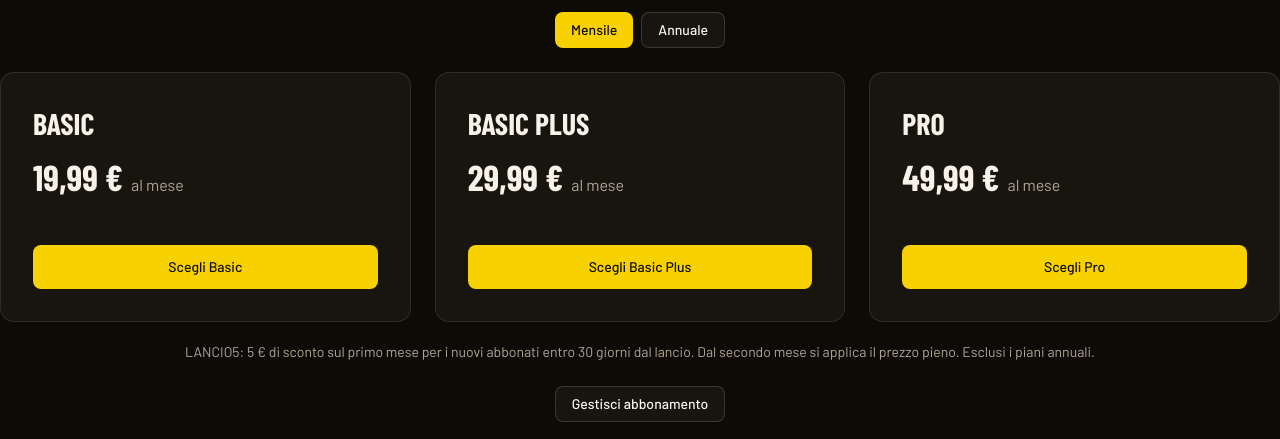
Test: offers three monthly and three annual plans with exact checkout links and upfront totals
The width and height of the screenshot is (1280, 439).
Check: the text "LANCIO5" is shown, box top-left (185, 343), bottom-right (1095, 360)
Click the button "Annuale".
click(683, 30)  # box top-left (641, 12), bottom-right (725, 48)
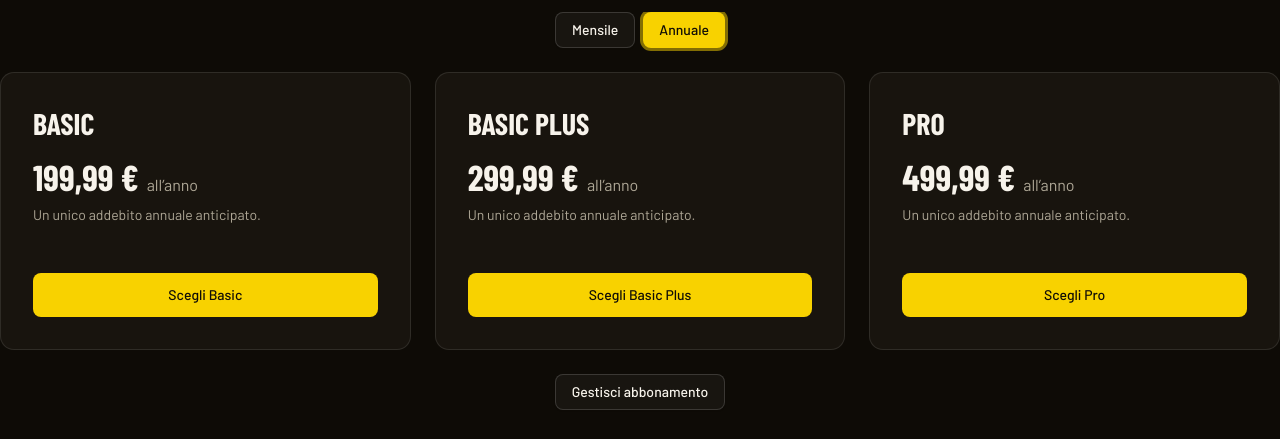
Check: the text "499,99 €" is shown, box top-left (902, 155), bottom-right (1015, 198)
Check: the text "Un unico addebito annuale anticipato." is shown 3 times, box top-left (33, 206), bottom-right (261, 223); top-left (468, 206), bottom-right (696, 223); top-left (902, 206), bottom-right (1130, 223)
Check: the text "LANCIO5" is gone
